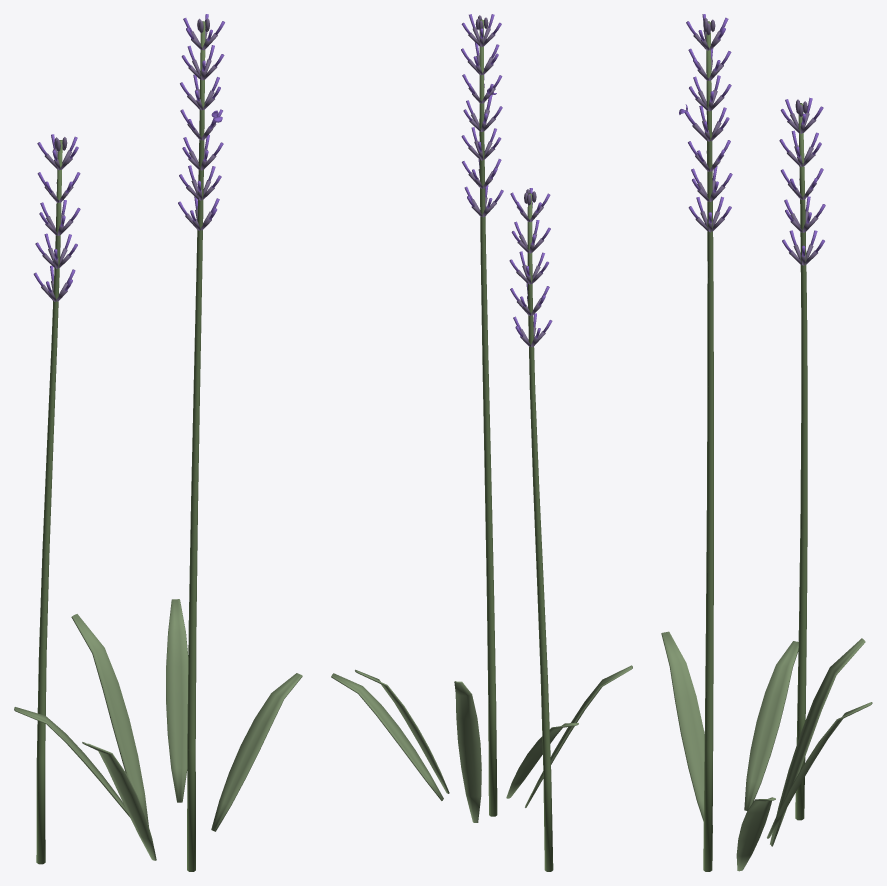
File: flower-lavandula-low.glb
3 views of the same model, side by side, from view 1: azimuth 30°, elevation 25°; view 2: azimuth 150°, elevation 25°; view 3: azimuth 270°, elevation 25° (orthographic). The views are drawn at different scales.
Parts seen in each view (by area): view 1: leaves, stems, spike_florets, spike_florets_bg; view 2: stems, leaves, spike_florets, spike_florets_bg; view 3: leaves, stems, spike_florets, spike_florets_bg.
Boxes of the visible parts, left/top/right/bottom form: leaves: left=14, top=599, right=302, bottom=860; stems: left=36, top=21, right=205, bottom=871; spike_florets: left=178, top=14, right=224, bottom=230; spike_florets_bg: left=33, top=134, right=80, bottom=301; stems: left=479, top=19, right=553, bottom=871; leaves: left=331, top=665, right=632, bottom=822; spike_florets: left=461, top=14, right=503, bottom=217; spike_florets_bg: left=509, top=188, right=552, bottom=347; leaves: left=661, top=631, right=872, bottom=871; stems: left=703, top=21, right=807, bottom=871; spike_florets: left=686, top=14, right=732, bottom=232; spike_florets_bg: left=779, top=97, right=825, bottom=265.
Size of the model in its own units: 6.29 by 18.54 by 4.14.
